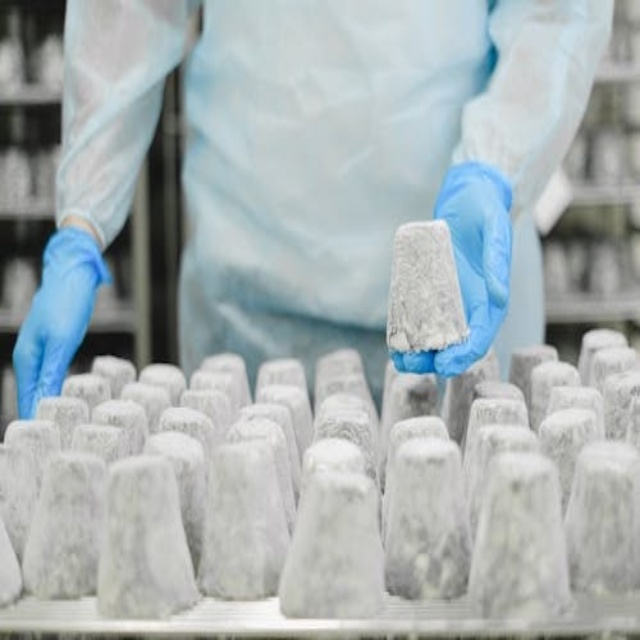Guantes: (412, 159, 515, 379), (13, 225, 113, 422)
